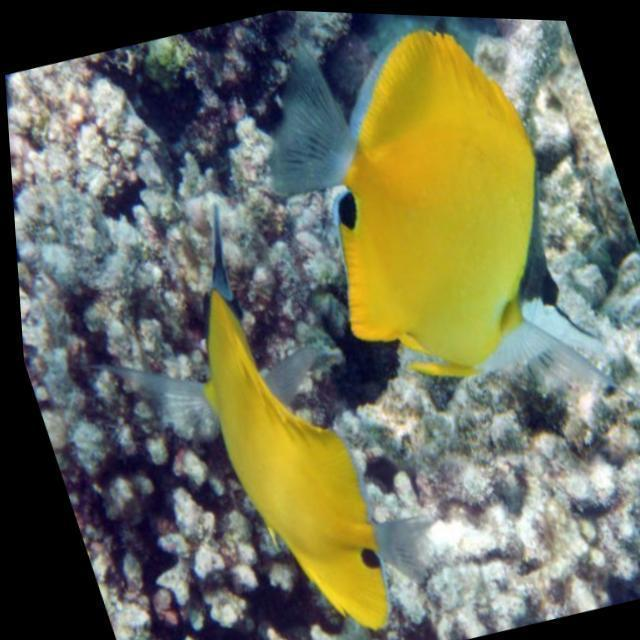Dead Coral: (345, 289, 640, 636), (4, 82, 280, 351)
